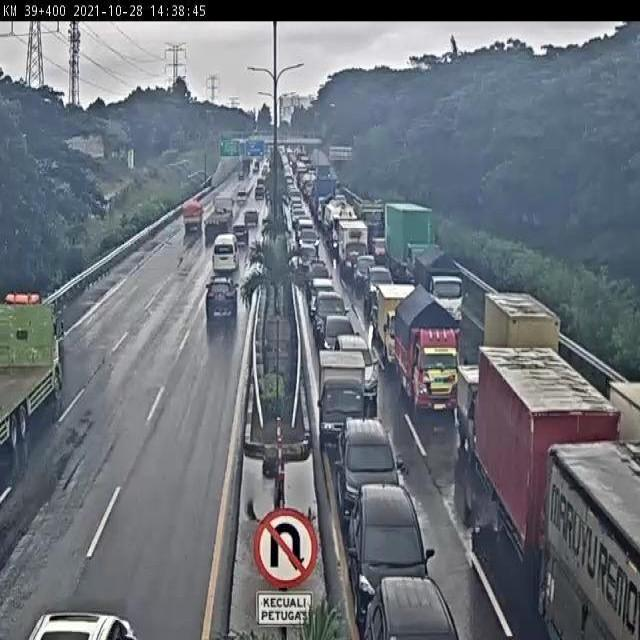big truck: (479, 345, 626, 595), (0, 292, 65, 455), (383, 203, 433, 281), (204, 196, 236, 244)
car: (349, 486, 436, 618), (335, 418, 399, 530), (363, 577, 460, 640), (335, 336, 380, 403), (319, 315, 360, 369), (312, 290, 350, 342), (204, 275, 241, 324), (367, 265, 395, 308), (309, 276, 334, 316), (355, 255, 376, 288), (230, 222, 250, 246), (244, 209, 260, 227)
small bus: (210, 230, 240, 270)
small truck: (393, 287, 462, 416), (484, 289, 563, 399), (458, 365, 521, 468), (317, 348, 369, 449), (413, 246, 462, 326), (377, 283, 420, 369), (339, 220, 369, 276), (180, 198, 204, 238)
